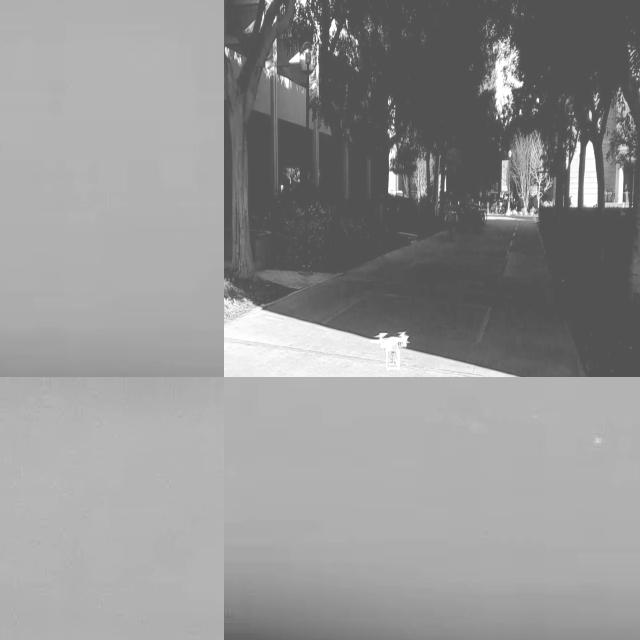0: (589, 432, 611, 454)
drone: (375, 332, 408, 377)
